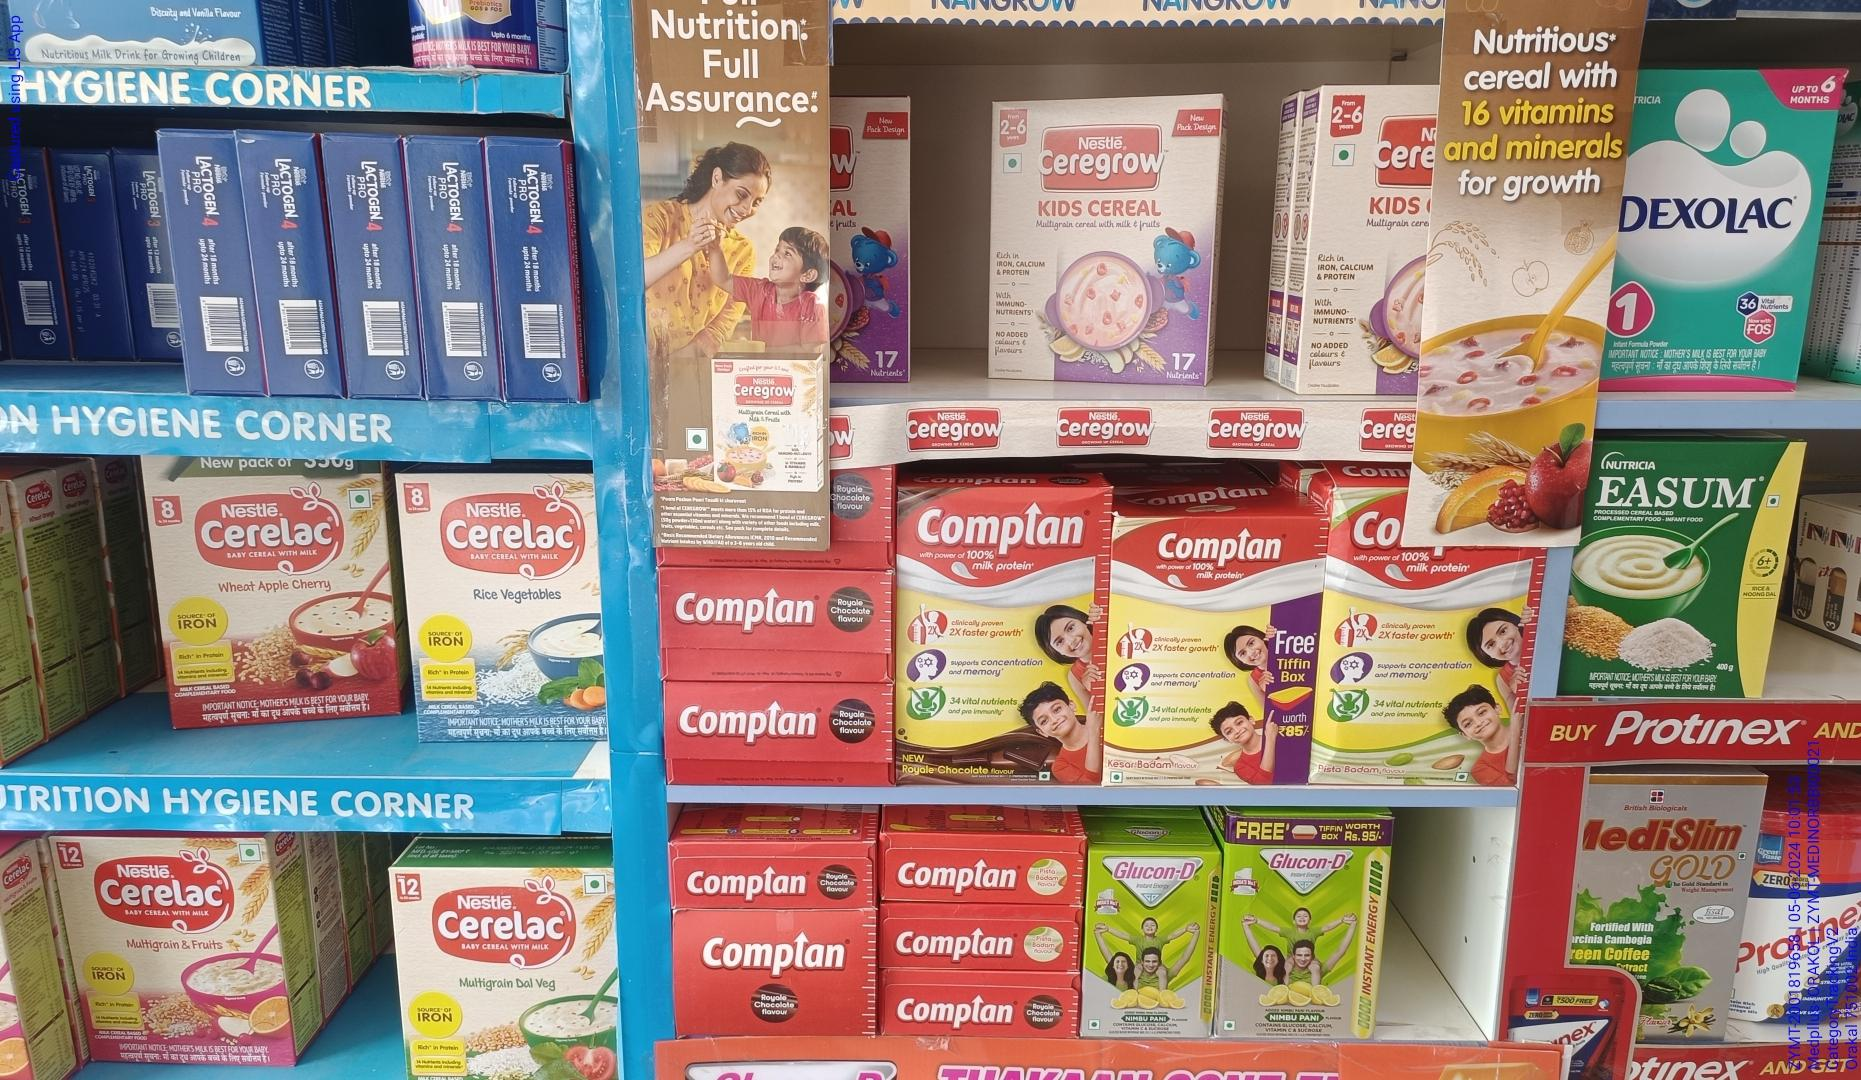COMPLAN_CHOCOLATE_500_GMS_PACK: (897, 486, 1104, 783)
COMPLAN_KESAR_BADAM_500_GMS_PACK: (1109, 512, 1308, 787)
COMPLAN_PISTA_BADAM_500_GMS_PACK: (1320, 525, 1514, 787)
